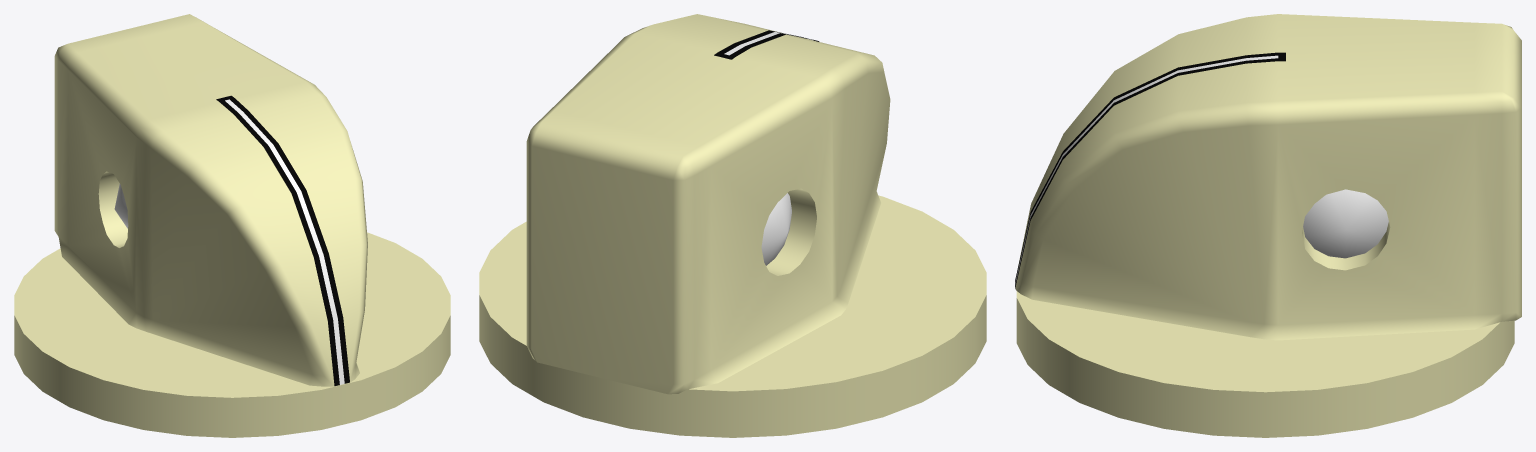
The model's file is Rotating_Selector_Knob_V1.fbx.
3 renders of one model, left to right at view 1: azimuth 30°, elevation 25°; view 2: azimuth 150°, elevation 25°; view 3: azimuth 270°, elevation 25°, orthographic. The views are drawn at different scales.
Visible parts, largest first — view 1: Knob, Pull_Selector_Knob, Trim; view 2: Knob, Pull_Selector_Knob, Trim; view 3: Knob, Pull_Selector_Knob, Trim.
Part boxes in pixels (<box>): Knob: <box>54,14,367,386</box>; Pull_Selector_Knob: <box>14,232,450,437</box>; Trim: <box>216,95,349,385</box>; Knob: <box>526,14,890,394</box>; Pull_Selector_Knob: <box>479,195,986,437</box>; Trim: <box>714,30,819,59</box>; Knob: <box>1015,14,1521,340</box>; Pull_Selector_Knob: <box>1016,291,1514,437</box>; Trim: <box>1015,52,1285,288</box>.
Bounding box in the file's own units: 2.75 × 1.67 × 2.78.
